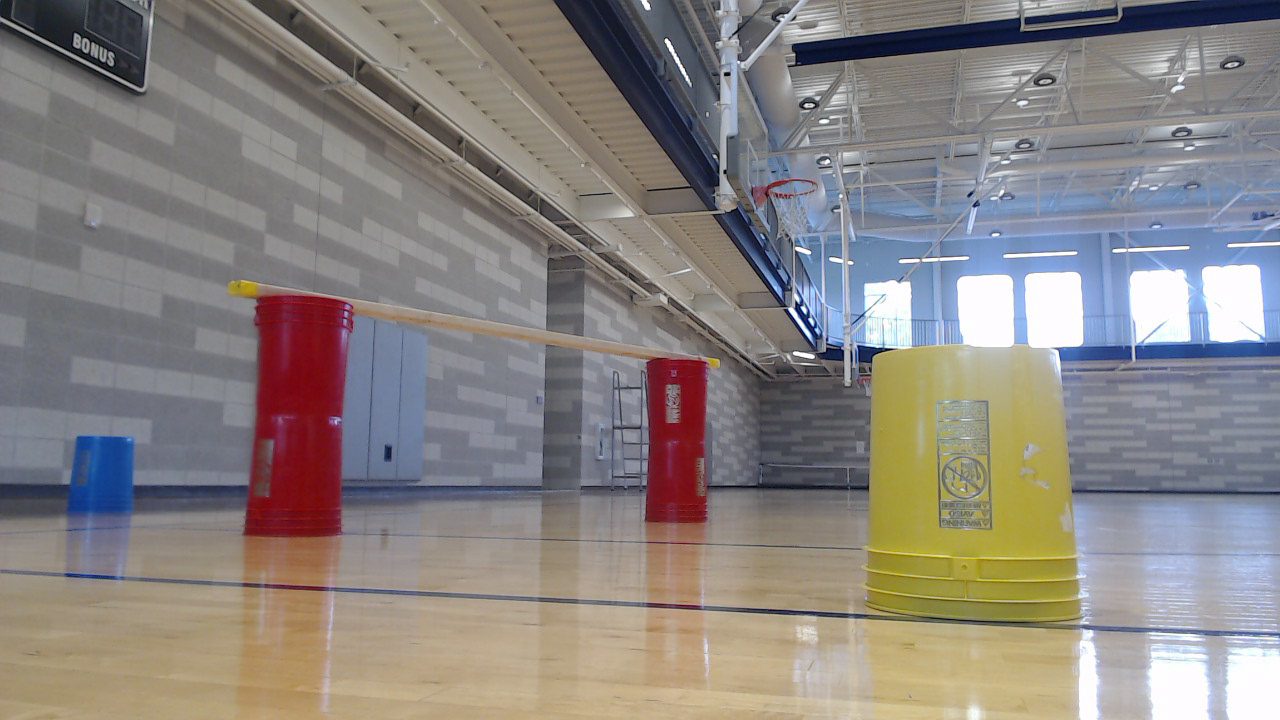blue_bucket: (66, 438, 147, 528)
red_bucket_arch: (242, 275, 717, 548)
yellow_bucket: (867, 346, 1091, 634)
